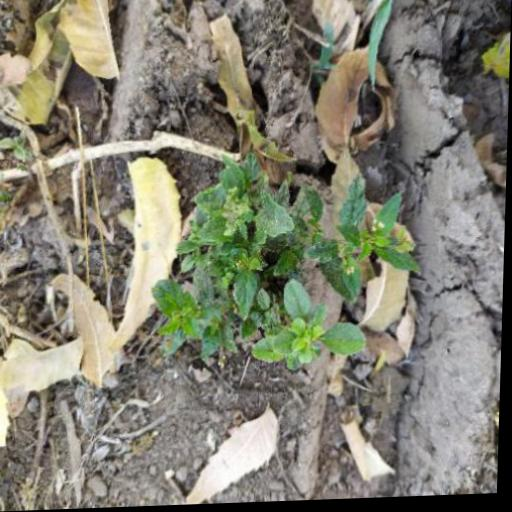weed: (150, 132, 418, 388)
